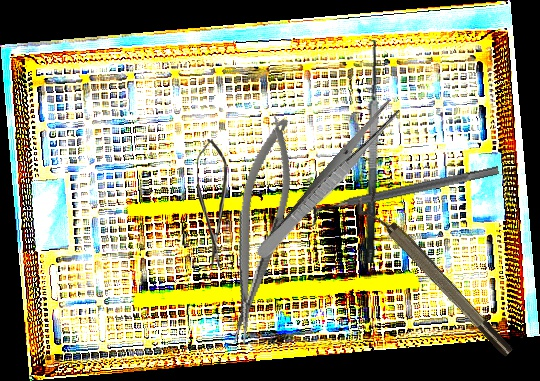Dressing Forceps: (253, 97, 404, 265)
Fixation Ring: (351, 187, 517, 366), (305, 155, 502, 230)
Micro Scissor: (197, 139, 227, 269)
Needle Holder: (209, 112, 308, 348)
Spatula Surgical: (345, 39, 388, 264)
